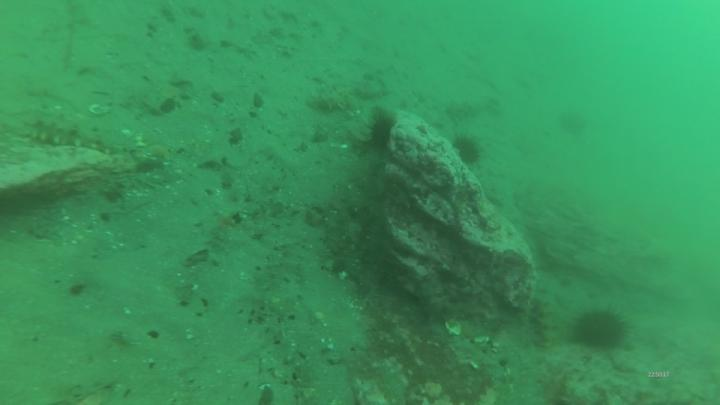echinus: (570, 304, 633, 355), (450, 132, 486, 169), (368, 116, 396, 153), (558, 110, 590, 138)
holothurian: (26, 115, 140, 159), (444, 90, 504, 126), (529, 297, 564, 353), (303, 85, 363, 117)
